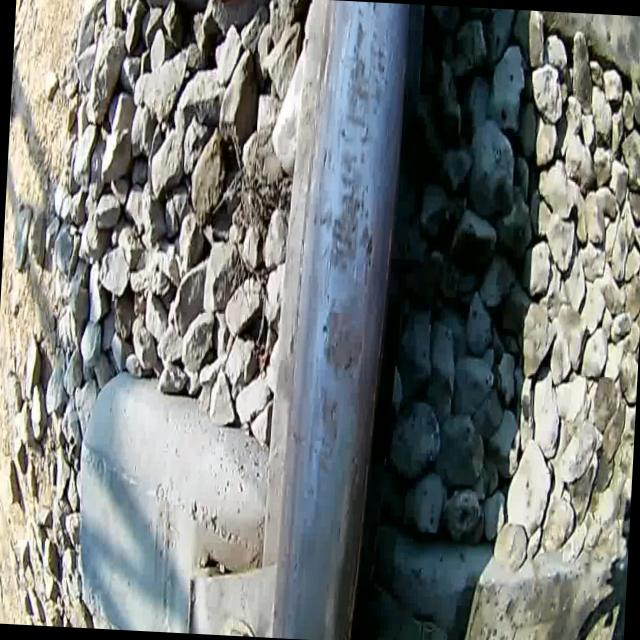Squats: (308, 144, 384, 291), (337, 1, 392, 146), (316, 288, 370, 386), (308, 376, 345, 482)
